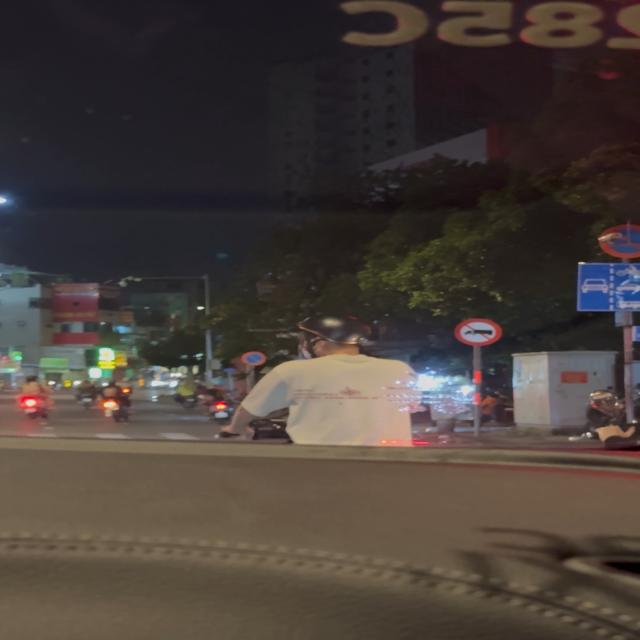Bien bao cam do xe: (240, 350, 268, 368)
Bien bao cam xe so-mi ro-mooc: (450, 316, 508, 348)
